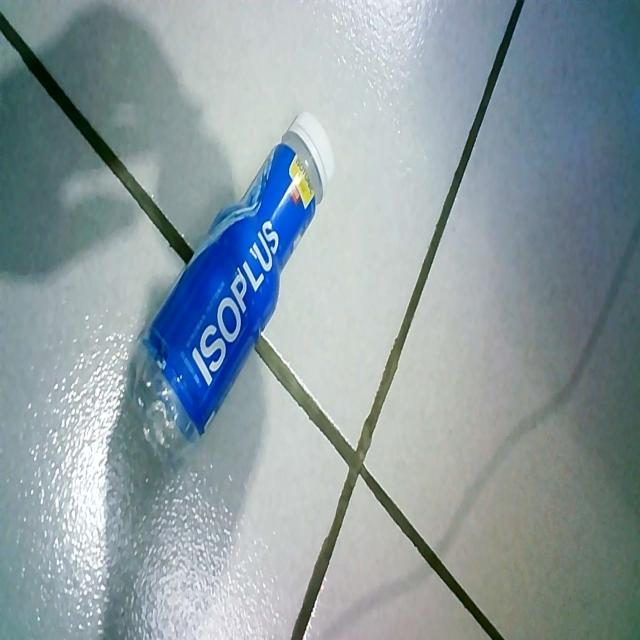botol: (125, 102, 339, 485)
